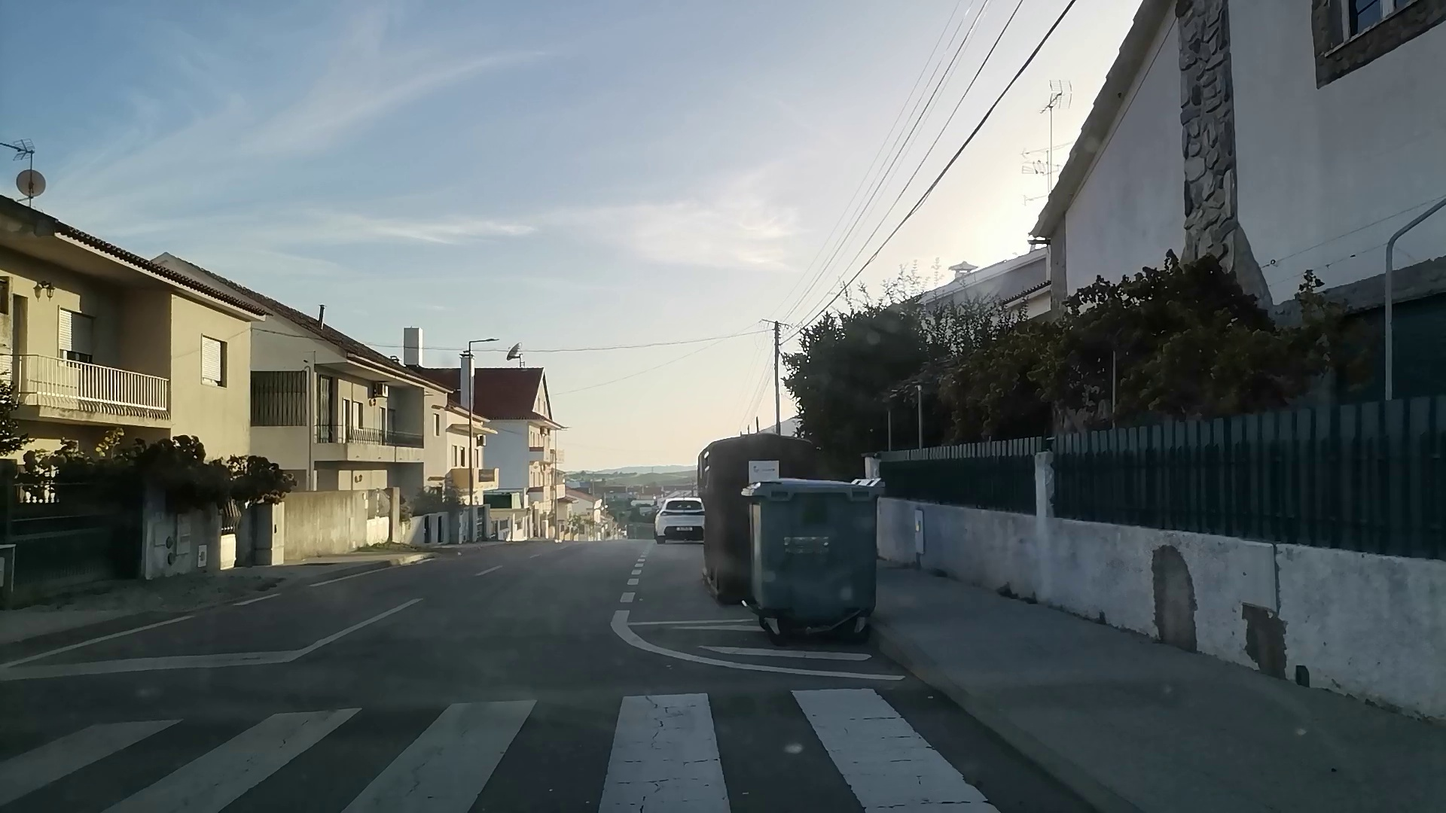Stairs: (6, 698, 1020, 813)
